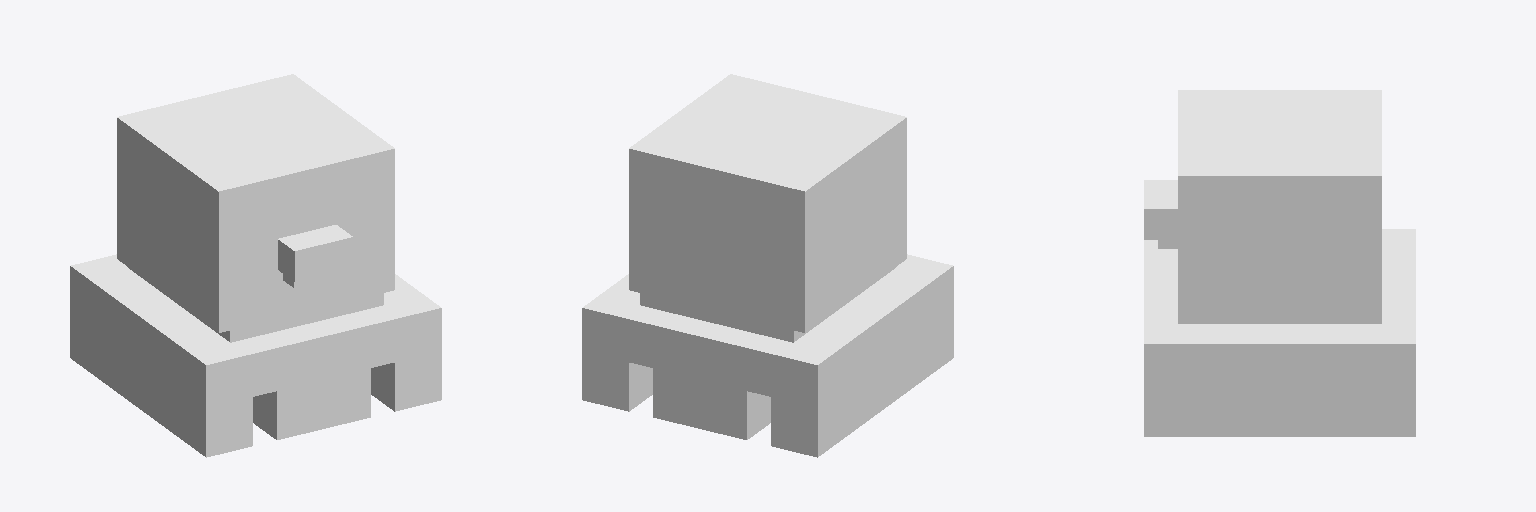
The model's file is Enemy2_4.obj.
The picture shows the model from 3 angles: view 1: azimuth 30°, elevation 25°; view 2: azimuth 150°, elevation 25°; view 3: azimuth 270°, elevation 25°; orthographic projection.
Visible parts, largest first — view 1: Enemy2_4; view 2: Enemy2_4; view 3: Enemy2_4.
Boxes of the visible parts, box(x1,y1,x2,y2) form: Enemy2_4: box(70, 74, 441, 457); Enemy2_4: box(582, 74, 953, 457); Enemy2_4: box(1144, 90, 1415, 436).
Size of the model in its own units: 40 by 40 by 40.